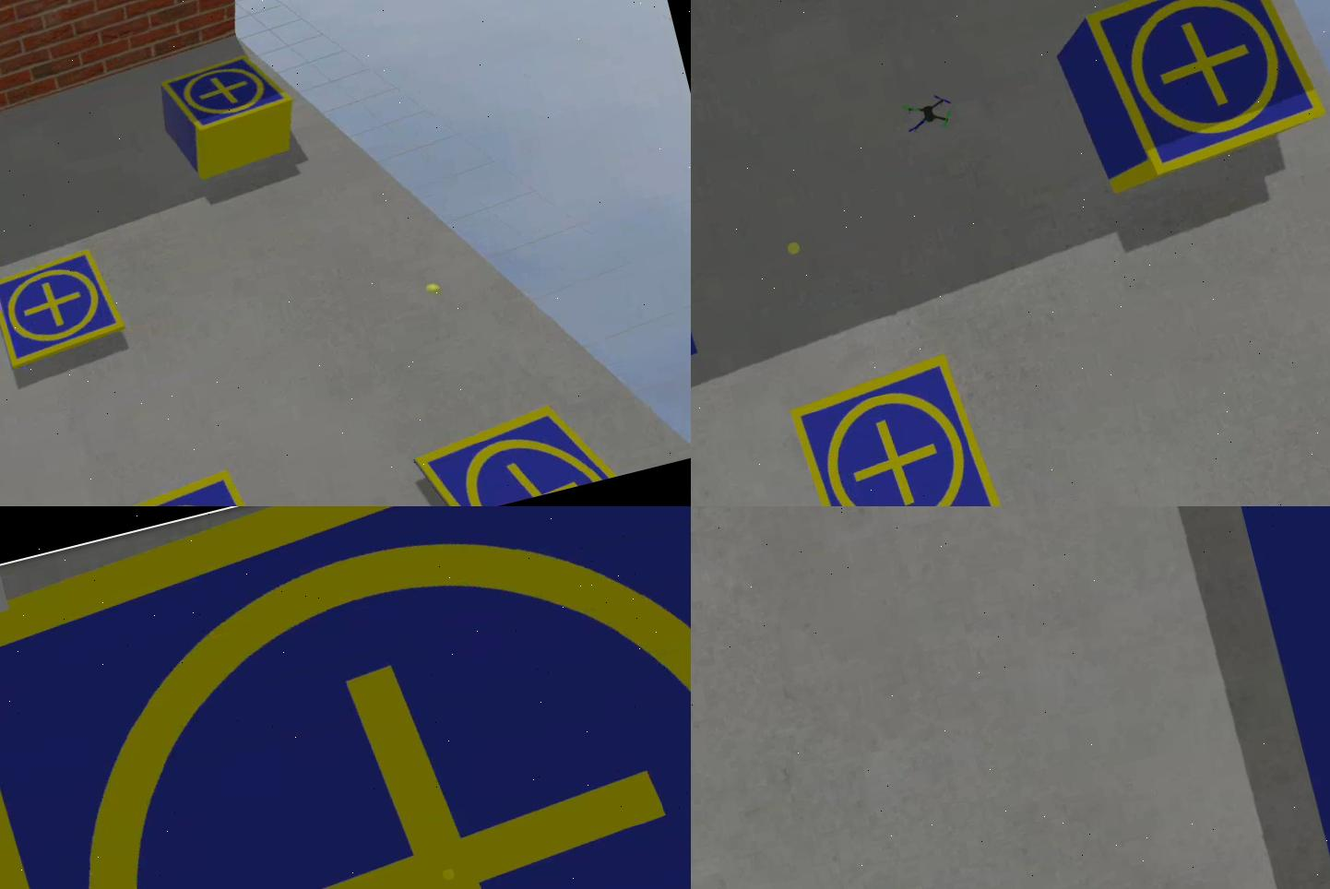small_base: (1, 507, 692, 889), (1082, 1, 1330, 189), (786, 346, 1011, 507), (410, 391, 619, 507), (1, 242, 132, 373), (164, 50, 301, 141), (85, 464, 275, 507)
